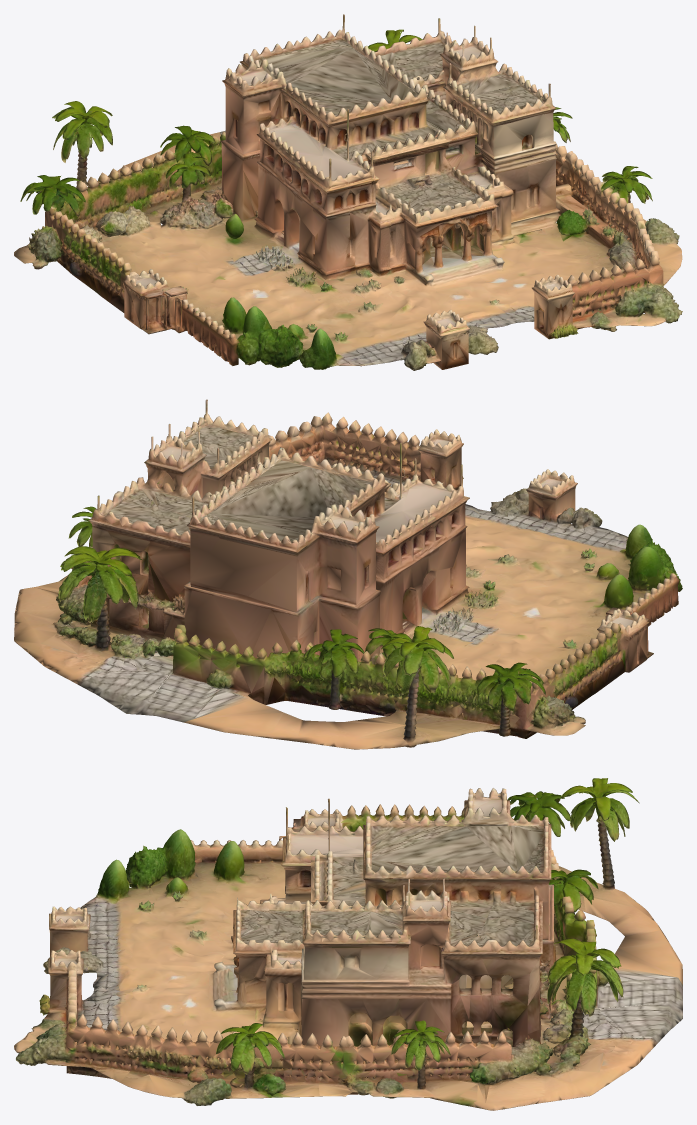
The model's file is Desert_Fortress.glb.
3 renders of one model, top to bottom at view 1: azimuth 30°, elevation 25°; view 2: azimuth 150°, elevation 25°; view 3: azimuth 270°, elevation 25°, orthographic. The views are drawn at different scales.
Parts seen in each view (by area): view 1: Desert_Fortress; view 2: Desert_Fortress; view 3: Desert_Fortress.
Part boxes in pixels (x1=…): Desert_Fortress: x1=14, y1=14, x2=682, y2=370; Desert_Fortress: x1=14, y1=399, x2=682, y2=749; Desert_Fortress: x1=14, y1=778, x2=682, y2=1110.
Size of the model in its own units: 1.88 by 0.5461 by 1.9.
1 material, 1 textured.
